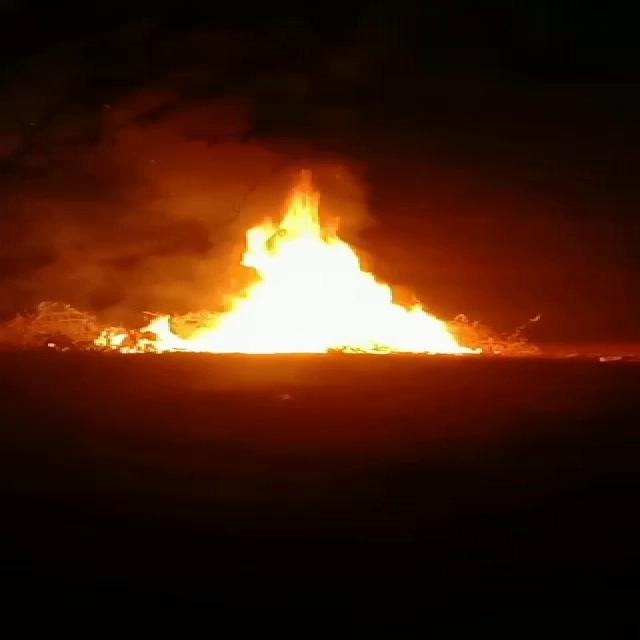Fire: (160, 178, 462, 355)
